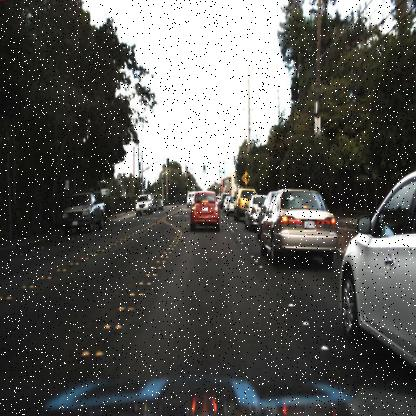car: (339, 166, 415, 378), (257, 186, 337, 274), (58, 185, 108, 237), (184, 185, 225, 241), (245, 194, 260, 236), (133, 192, 154, 218), (233, 187, 247, 221), (152, 194, 166, 212)
